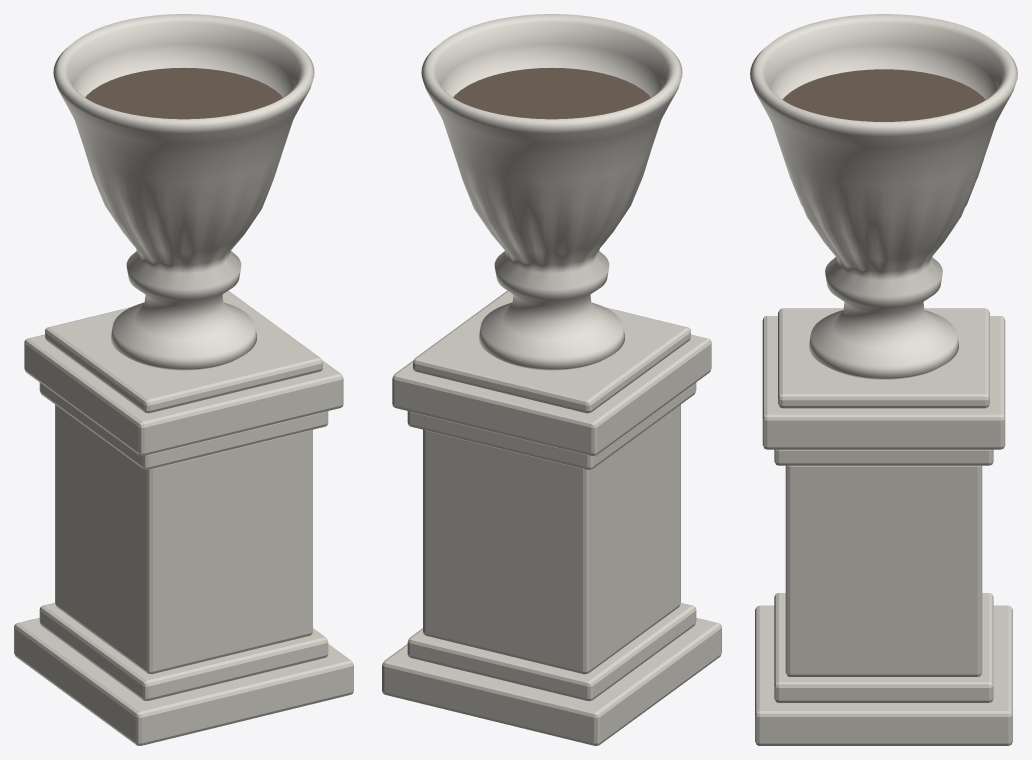
File: garden-urn.glb
The picture shows the model from 3 angles, left to right: view 1: azimuth 30°, elevation 25°; view 2: azimuth 150°, elevation 25°; view 3: azimuth 270°, elevation 25°; orthographic projection. The views are drawn at different scales.
Parts seen in each view (by area): view 1: PedDie, GardenUrn, PedPlinth, PedCap, PedBed, PedScotia, Soil, PedCove; view 2: PedDie, GardenUrn, PedPlinth, PedCap, PedBed, PedScotia, Soil, PedCove; view 3: GardenUrn, PedDie, PedPlinth, PedCap, PedBed, Soil, PedScotia, PedCove.
Part boxes in pixels (x1,y1,x2,y2): PedDie: (55, 404, 312, 674); GardenUrn: (53, 14, 314, 370); PedPlinth: (14, 618, 353, 745); PedCap: (24, 334, 343, 455); PedBed: (45, 290, 322, 413); PedScotia: (39, 603, 328, 700); Soil: (85, 67, 282, 119); PedCove: (39, 382, 328, 469); PedDie: (423, 404, 680, 674); GardenUrn: (421, 14, 682, 370); PedPlinth: (382, 618, 721, 745); PedCap: (392, 334, 711, 455); PedBed: (413, 290, 690, 413); PedScotia: (407, 603, 696, 700); Soil: (453, 67, 650, 119); PedCove: (407, 382, 696, 469); GardenUrn: (750, 14, 1017, 379); PedDie: (785, 465, 982, 676); PedPlinth: (755, 605, 1012, 745); PedCap: (762, 316, 1005, 449); PedBed: (778, 308, 989, 408); Soil: (782, 69, 985, 121); PedScotia: (774, 593, 993, 702); PedCove: (774, 449, 993, 465).
Size of the model in its own units: 0.696 by 1.79 by 0.696.
